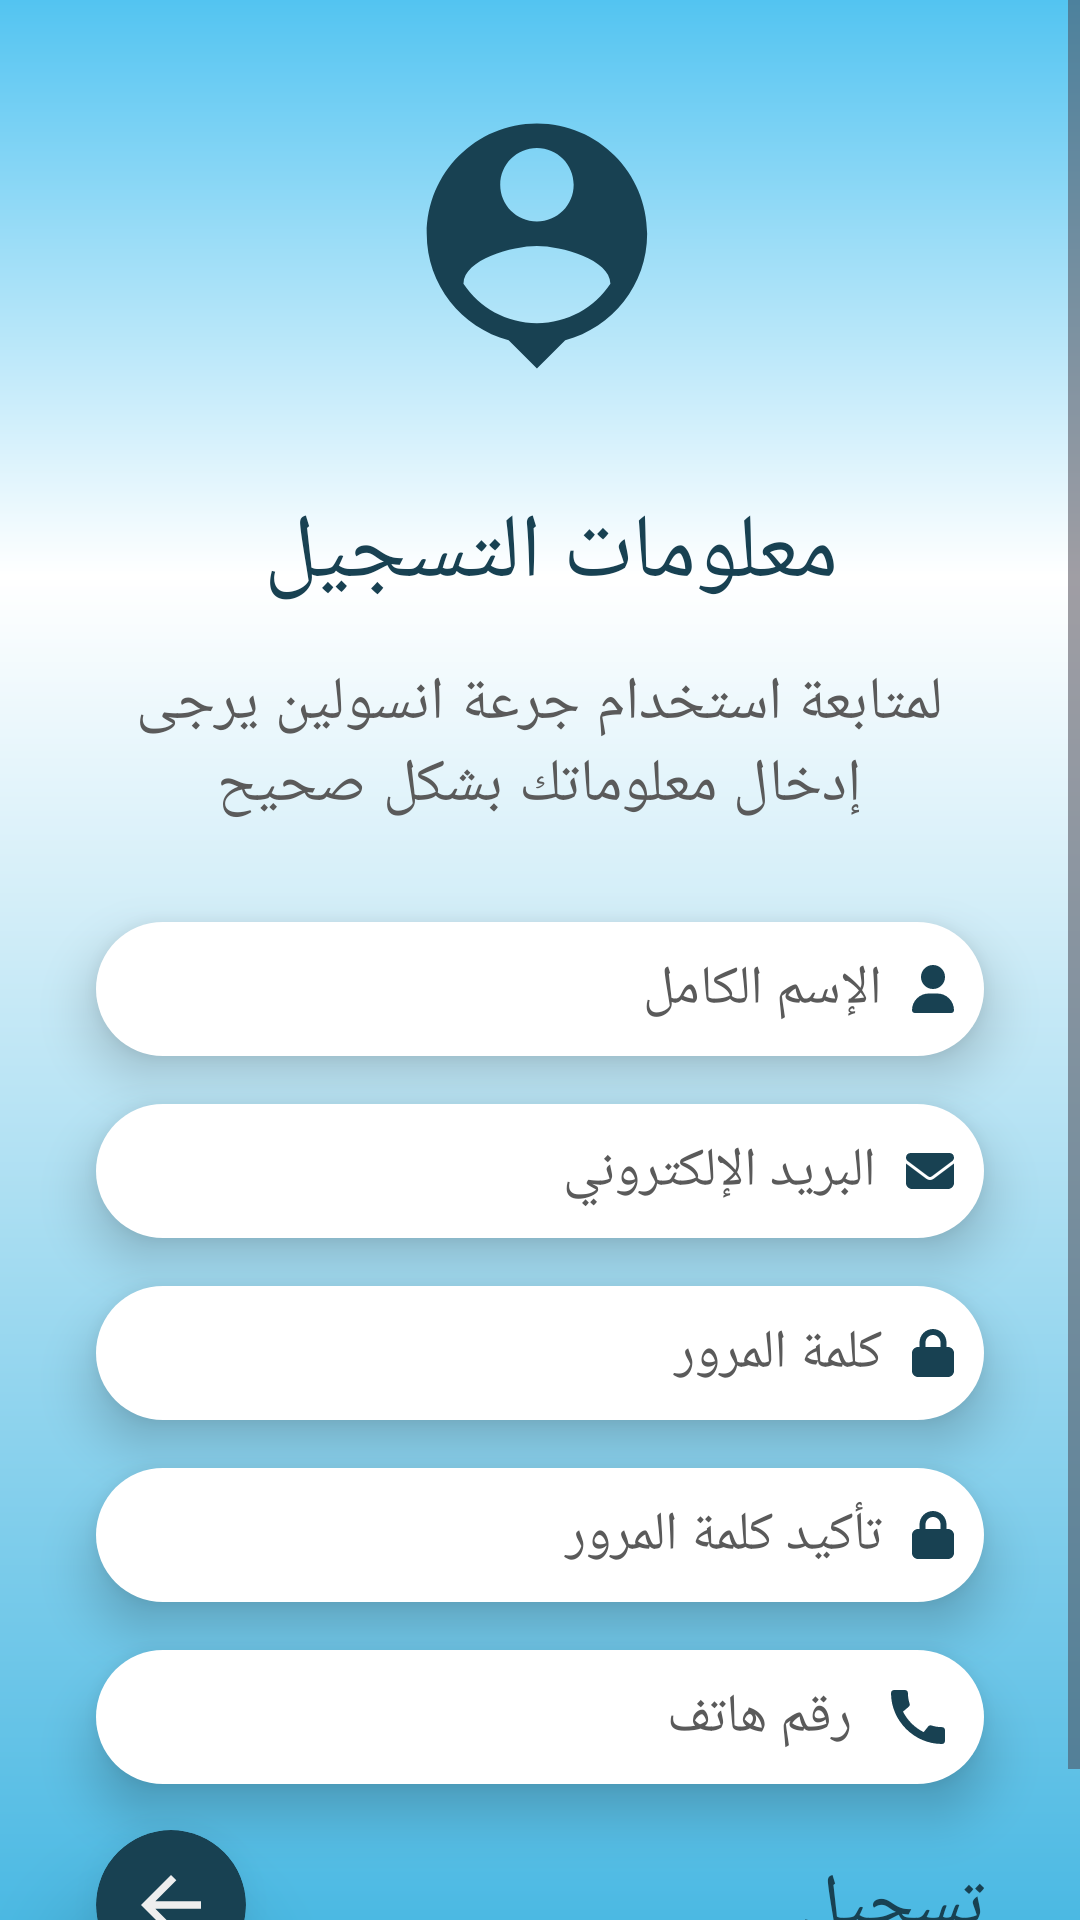

Icons on this 1080px x 1920px Android screen, each with the point to tap as point (x, y):
person pin: point (540, 246)
